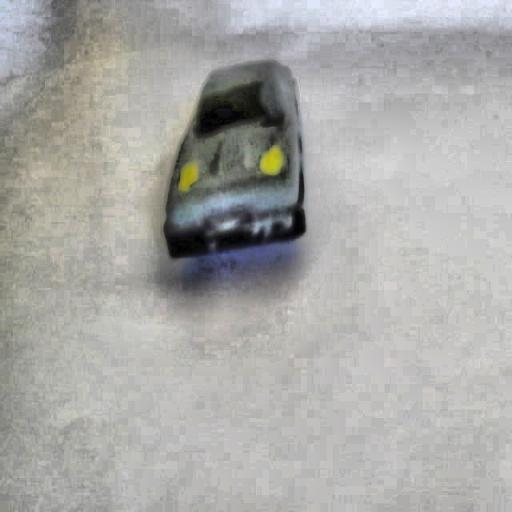normal_car: (157, 54, 313, 263)
